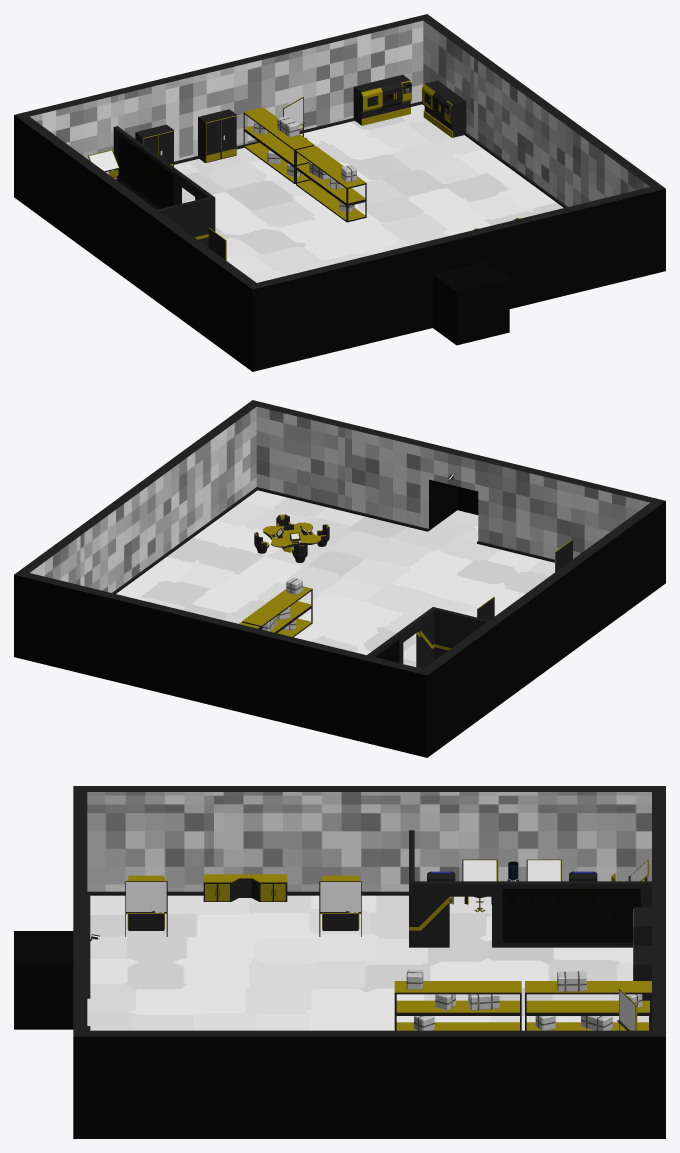
The model's file is Engineering_Room_1x1x1.fbx.
3 renders of one model, top to bottom at view 1: azimuth 30°, elevation 25°; view 2: azimuth 150°, elevation 25°; view 3: azimuth 270°, elevation 25°, orthographic. The views are drawn at different scales.
Visible parts, largest first — view 1: Engeneer_Room_1x1x1; view 2: Engeneer_Room_1x1x1; view 3: Engeneer_Room_1x1x1.
Boxes of the visible parts, box(x1,y1,x2,y2) form: Engeneer_Room_1x1x1: box(14, 14, 665, 371); Engeneer_Room_1x1x1: box(14, 400, 665, 757); Engeneer_Room_1x1x1: box(14, 786, 665, 1138).
Bounding box in the file's own units: 42 × 46.2 × 8.05.
